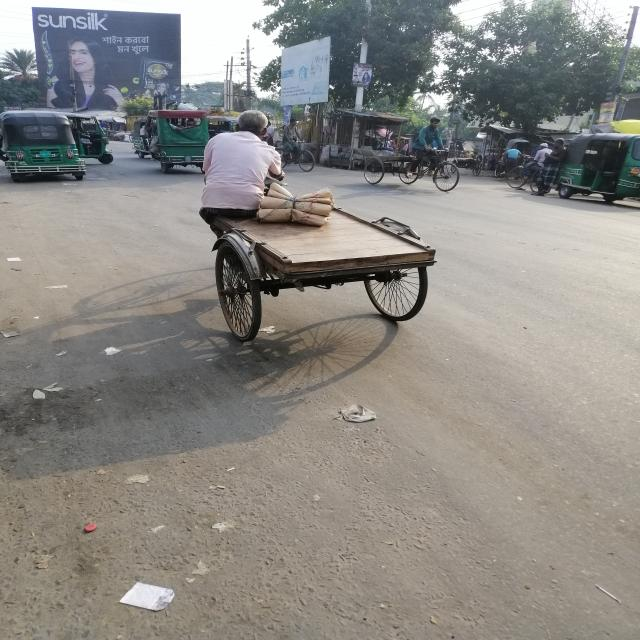Van: (173, 122, 445, 368)
